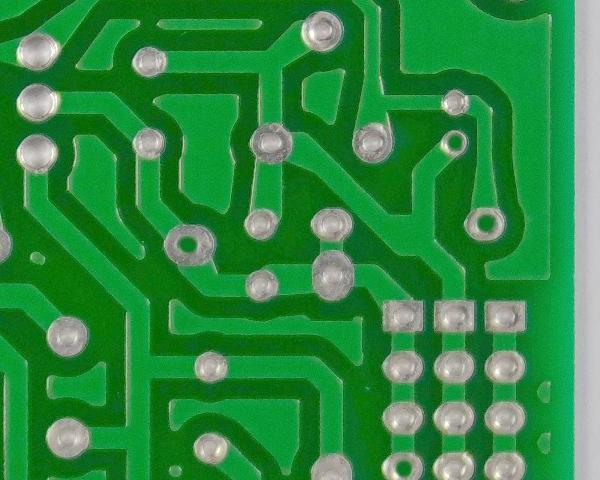missing hole: (159, 219, 222, 271), (459, 203, 513, 246), (376, 447, 428, 480), (436, 125, 477, 158)
